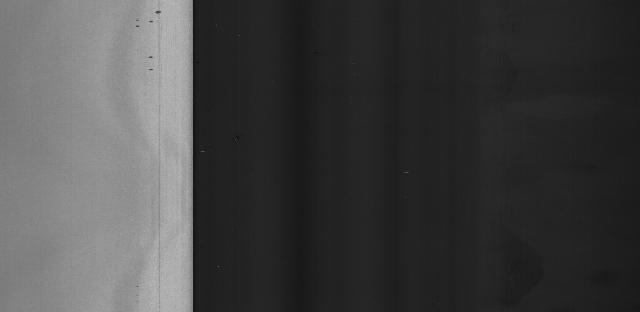oil_spot: (132, 9, 167, 32), (142, 51, 164, 79)
